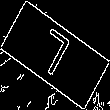L_SW: (32, 26, 78, 84)
